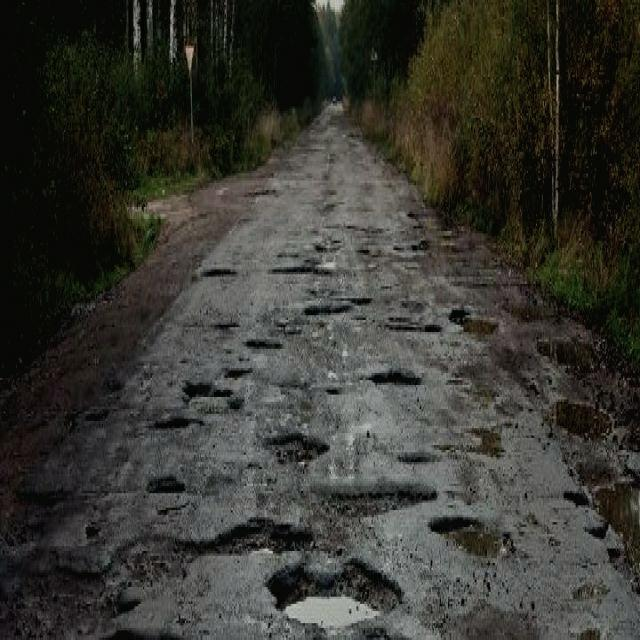Pothole: (1, 556, 143, 638), (268, 553, 408, 628), (563, 464, 640, 594), (300, 479, 438, 515), (428, 510, 513, 568), (260, 431, 332, 462), (448, 306, 500, 337), (183, 378, 233, 407), (368, 366, 424, 387), (146, 472, 186, 500), (305, 296, 351, 320), (156, 411, 196, 435)
